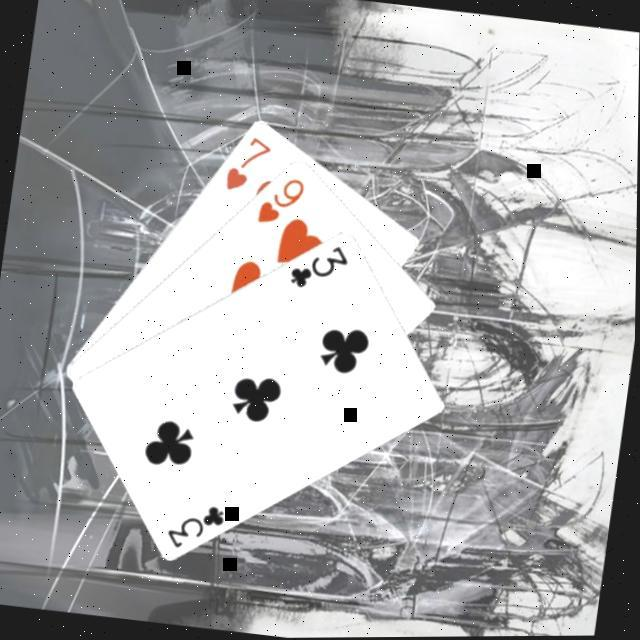3C: (163, 496, 232, 556), (286, 236, 356, 295)
7H: (221, 129, 277, 196)
9H: (253, 170, 310, 230)
